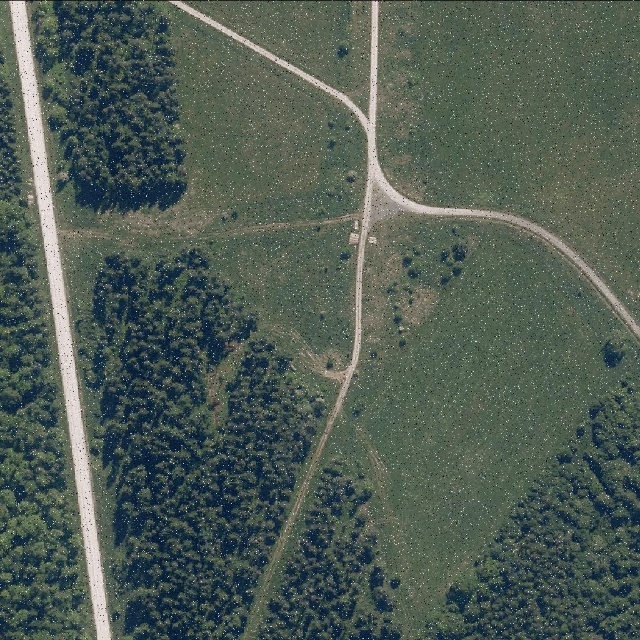vegetation: (73, 250, 327, 640), (416, 374, 639, 639), (2, 51, 88, 637), (35, 0, 186, 189), (253, 461, 404, 638)
